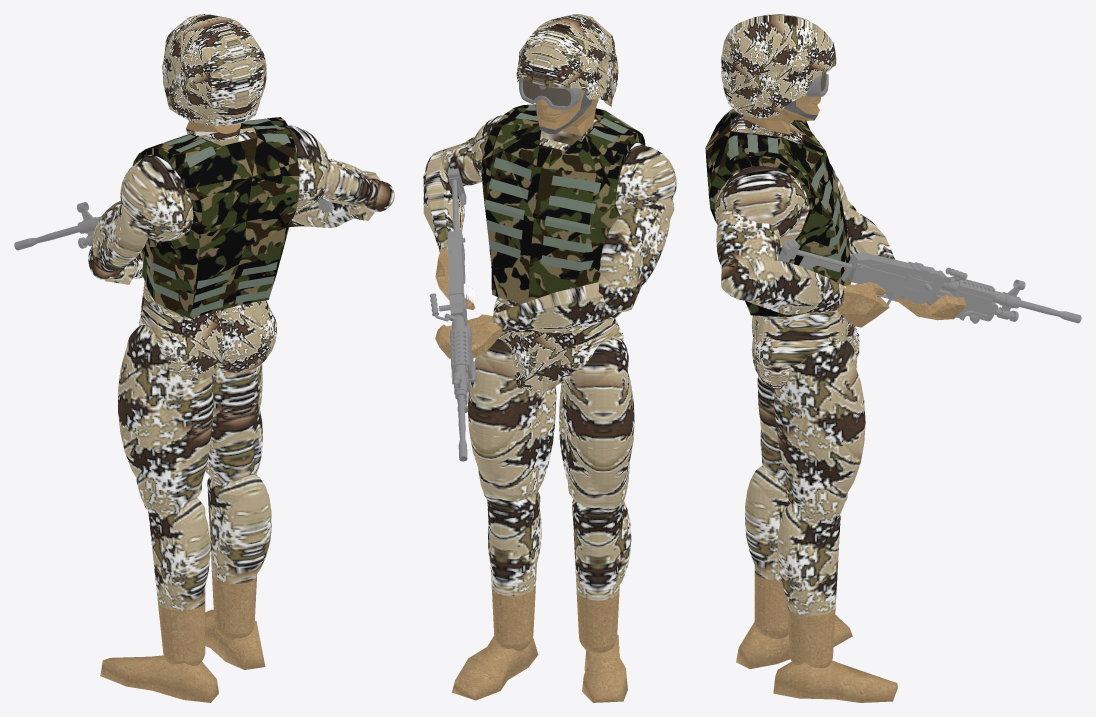
3 renders of one model, left to right at view 1: azimuth 30°, elevation 25°; view 2: azimuth 150°, elevation 25°; view 3: azimuth 270°, elevation 25°, orthographic. The views are drawn at different scales.
Visible parts, largest first — view 1: US_Soldiers_0; view 2: US_Soldiers_0; view 3: US_Soldiers_0.
Part boxes in pixels (<box>): US_Soldiers_0: <box>14,14,394,702</box>; US_Soldiers_0: <box>423,14,676,702</box>; US_Soldiers_0: <box>705,14,1081,702</box>.
Size of the model in its own units: 2.45 by 5.97 by 3.1.
Materials: 19 (6 with a texture image).
